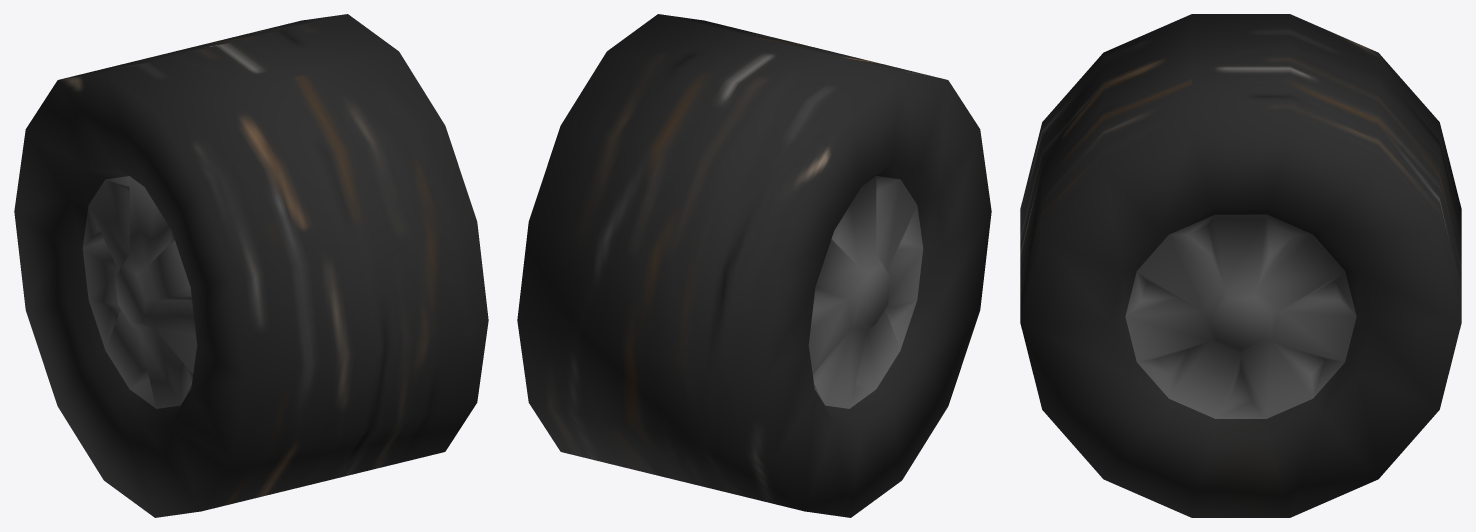
Rendered from OffRoad Wheel.fbx.
The picture shows the model from 3 angles, left to right: view 1: azimuth 30°, elevation 25°; view 2: azimuth 150°, elevation 25°; view 3: azimuth 270°, elevation 25°; orthographic projection. The views are drawn at different scales.
Parts seen in each view (by area): view 1: Off-Road Wheel; view 2: Off-Road Wheel; view 3: Off-Road Wheel.
Boxes of the visible parts, left/top/right/bottom form: Off-Road Wheel: left=14, top=14, right=488, bottom=517; Off-Road Wheel: left=517, top=14, right=991, bottom=517; Off-Road Wheel: left=1020, top=14, right=1461, bottom=517.
Size of the model in its own units: 0.5386 by 0.8579 by 0.88.
